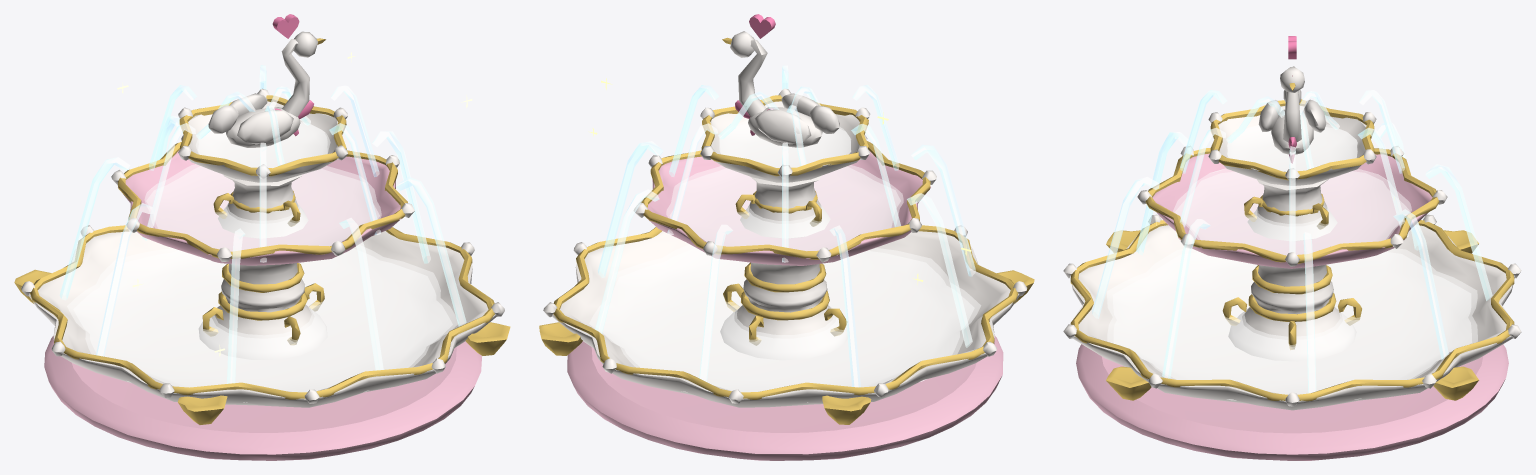
Rendered from fountain_center.glb.
3 renders of one model, left to right at view 1: azimuth 30°, elevation 25°; view 2: azimuth 150°, elevation 25°; view 3: azimuth 270°, elevation 25°, orthographic.
Visible parts, largest first — view 1: fountain_center; view 2: fountain_center; view 3: fountain_center.
Part boxes in pixels (x1,y1,x2,y2): fountain_center: (14, 14, 510, 460); fountain_center: (539, 14, 1034, 460); fountain_center: (1063, 36, 1521, 460).
Bounding box in the file's own units: 5.53 × 4.42 × 5.27.
